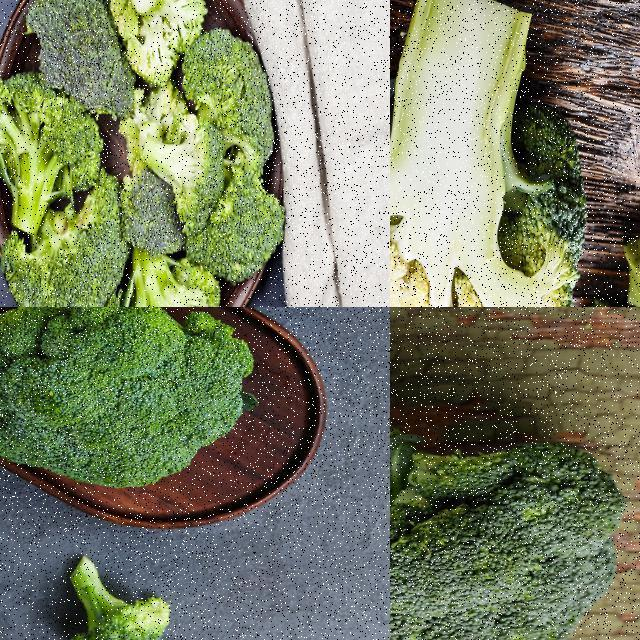broccoli: (390, 0, 590, 306), (390, 396, 630, 639), (0, 307, 254, 492), (0, 166, 127, 306), (0, 70, 103, 236), (172, 32, 273, 169), (142, 113, 230, 237), (57, 556, 173, 639), (106, 0, 201, 83), (103, 241, 223, 306)
